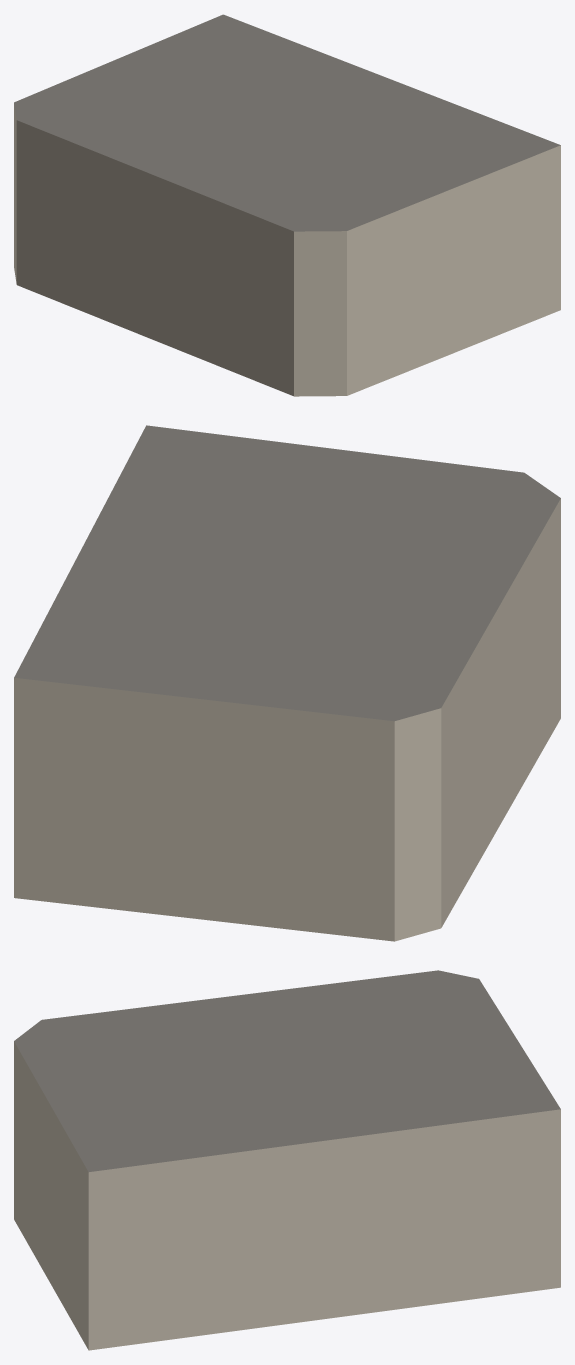
The picture shows the model from 3 angles, top to bottom: view 1: azimuth 30°, elevation 25°; view 2: azimuth 150°, elevation 25°; view 3: azimuth 270°, elevation 25°; orthographic projection. The views are drawn at different scales.
Parts seen in each view (by area): view 1: HP-w756797953; view 2: HP-w756797953; view 3: HP-w756797953.
Boxes of the visible parts, x1=… form: HP-w756797953: x1=14, y1=14, x2=560, y2=396; HP-w756797953: x1=14, y1=425, x2=560, y2=941; HP-w756797953: x1=14, y1=970, x2=560, y2=1350.
Size of the model in its own units: 43.69 by 18 by 50.03.
